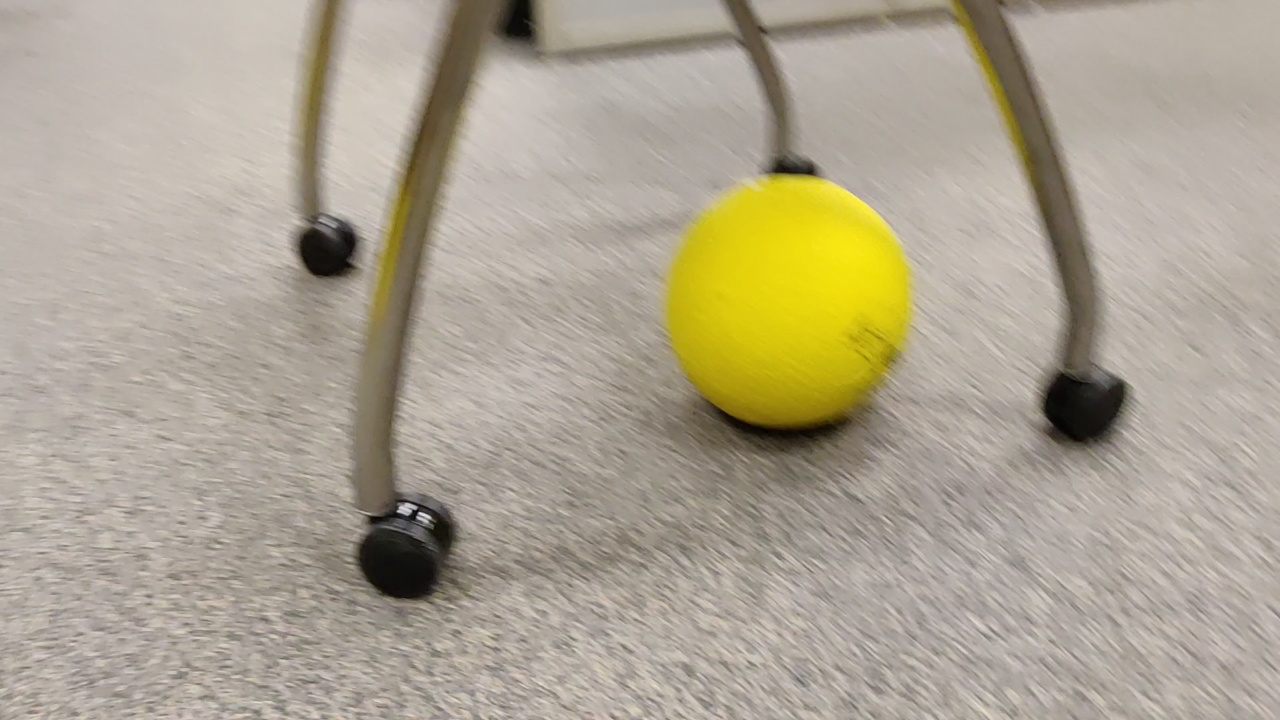Ball: (665, 176, 913, 432)
